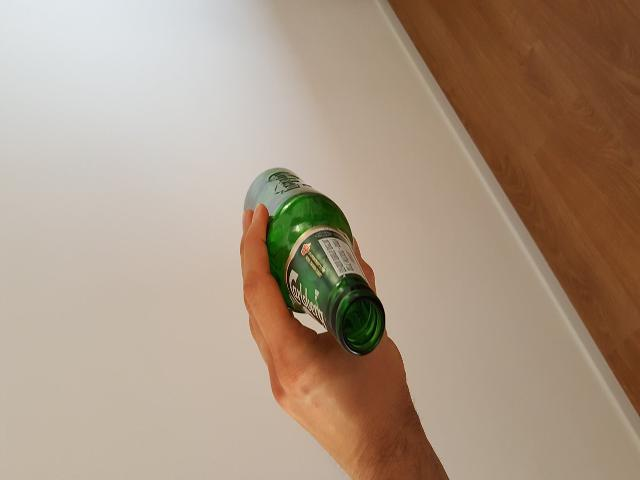beer: (245, 168, 388, 356)
